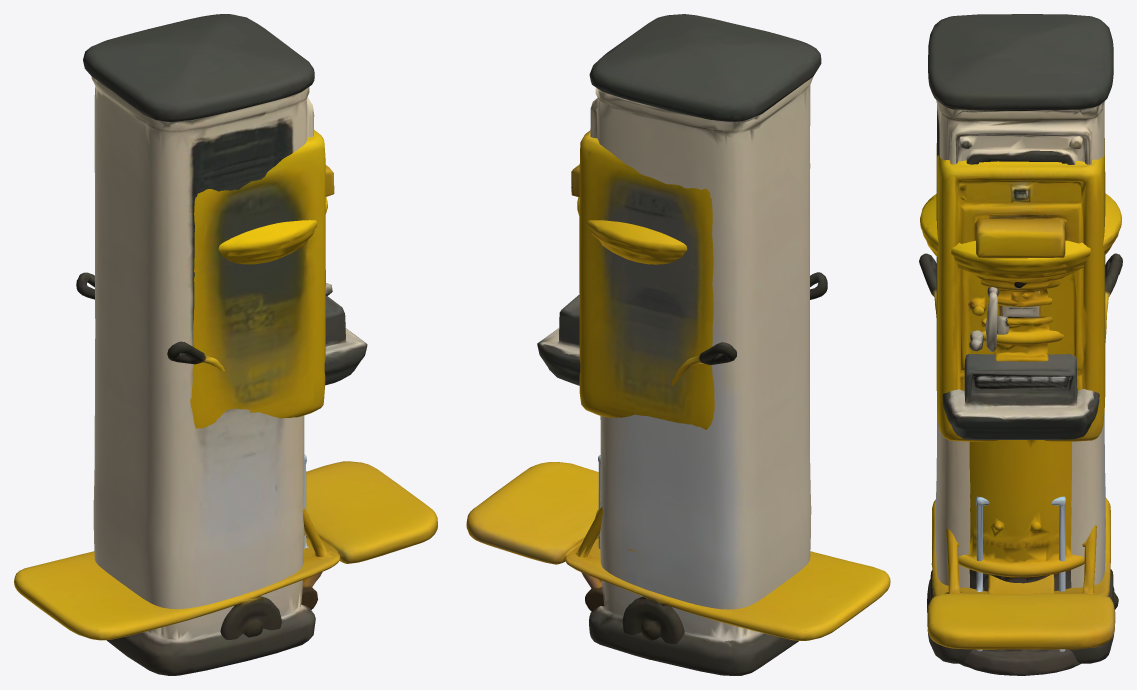
Rendered from guichets.glb.
3 views of the same model, side by side, from view 1: azimuth 30°, elevation 25°; view 2: azimuth 150°, elevation 25°; view 3: azimuth 270°, elevation 25° (orthographic).
Parts seen in each view (by area): view 1: distributeur-billets, distributeur-timbres, chariot-a-colis, boite-aux-lettres-poste; view 2: distributeur-billets, distributeur-timbres, chariot-a-colis, boite-aux-lettres-poste; view 3: distributeur-billets, distributeur-timbres, boite-aux-lettres-poste, chariot-a-colis, urne.
Boxes of the visible parts, left/top/right/bottom form: distributeur-billets: left=83, top=14, right=367, bottom=675; distributeur-timbres: left=190, top=130, right=334, bottom=428; chariot-a-colis: left=14, top=272, right=437, bottom=640; boite-aux-lettres-poste: left=218, top=197, right=327, bottom=534; distributeur-billets: left=537, top=14, right=821, bottom=675; distributeur-timbres: left=571, top=130, right=714, bottom=429; chariot-a-colis: left=466, top=272, right=890, bottom=660; boite-aux-lettres-poste: left=577, top=197, right=687, bottom=552; distributeur-billets: left=927, top=14, right=1114, bottom=663; distributeur-timbres: left=936, top=138, right=1105, bottom=441; boite-aux-lettres-poste: left=920, top=193, right=1121, bottom=675; chariot-a-colis: left=919, top=253, right=1122, bottom=649; urne: left=976, top=496, right=1065, bottom=651.
Size of the model in its own units: 1.1 by 1.7 by 0.5342.
1 material, 1 textured.
